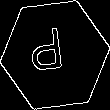P_S: (35, 27, 75, 83)
